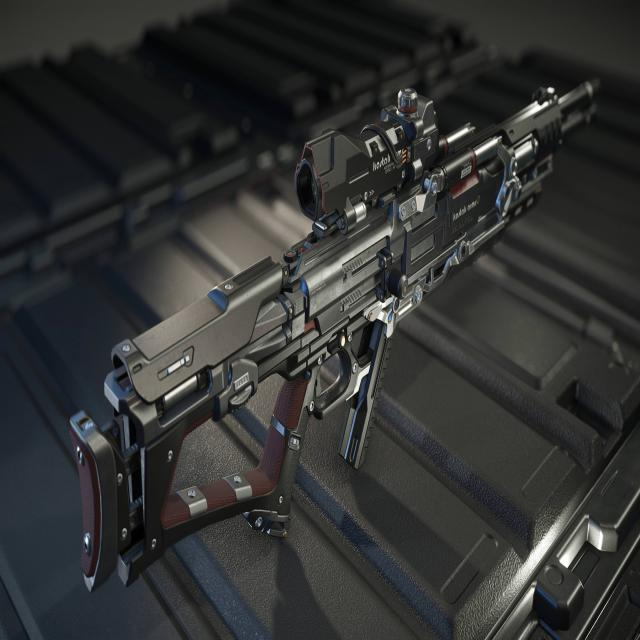Rifle: (69, 81, 597, 591)
